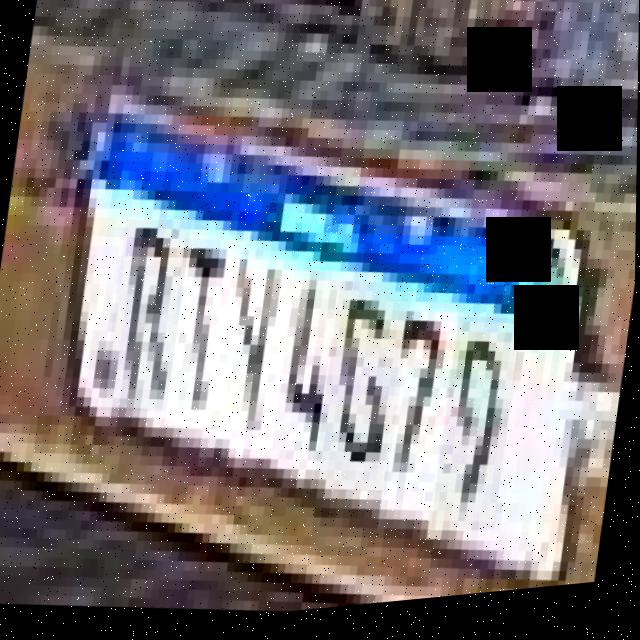4: (275, 262, 361, 485)
7: (382, 311, 460, 501)
9: (432, 321, 523, 545)
G: (313, 282, 415, 505)
R: (101, 216, 192, 420)
T: (165, 233, 248, 436)
Y: (215, 256, 299, 466)
